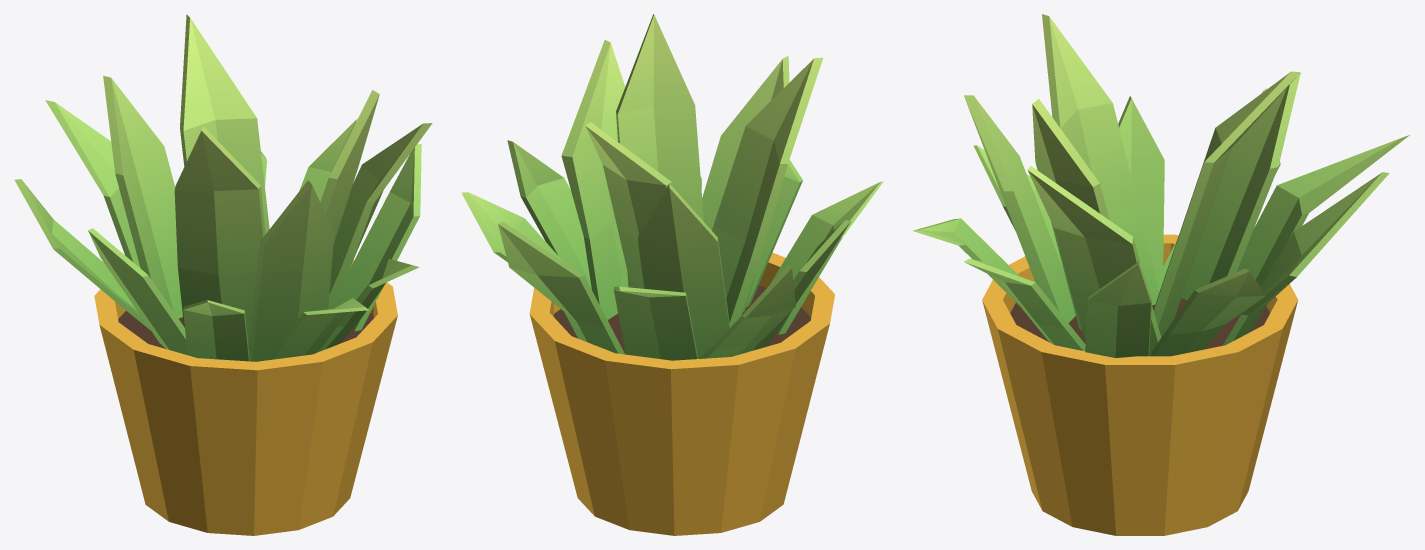
The model's file is Plant_11.fbx.
3 views of the same model, side by side, from view 1: azimuth 30°, elevation 25°; view 2: azimuth 150°, elevation 25°; view 3: azimuth 270°, elevation 25° (orthographic). The views are drawn at different scales.
Parts seen in each view (by area): view 1: Plant_11; view 2: Plant_11; view 3: Plant_11.
Part boxes in pixels (left/top/right/bottom): Plant_11: left=14, top=14, right=432, bottom=535; Plant_11: left=461, top=14, right=883, bottom=535; Plant_11: left=912, top=14, right=1409, bottom=535.
Size of the model in its own units: 14.49 by 16.81 by 17.6.
